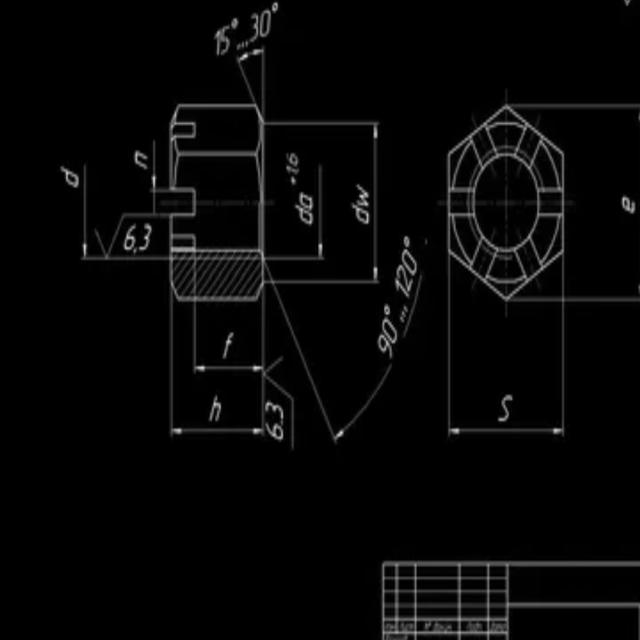marking_line: (266, 260, 399, 448), (267, 117, 380, 289), (566, 99, 640, 316), (444, 304, 566, 435), (166, 304, 267, 437), (81, 160, 171, 264), (266, 162, 325, 262), (191, 304, 269, 378), (234, 44, 271, 103), (150, 140, 170, 193)
numeric: (396, 263, 418, 294), (401, 248, 418, 282), (264, 421, 285, 444), (381, 318, 398, 345), (259, 9, 272, 41), (396, 276, 411, 303), (499, 391, 512, 422), (620, 191, 637, 214), (265, 400, 285, 419), (377, 334, 392, 359), (248, 12, 259, 41), (221, 25, 230, 56), (284, 164, 303, 177), (284, 152, 301, 166), (214, 30, 220, 59)
special_symbol: (91, 206, 169, 255), (266, 353, 298, 452), (269, 0, 279, 13), (403, 233, 411, 249), (383, 300, 390, 314), (232, 17, 240, 29)
